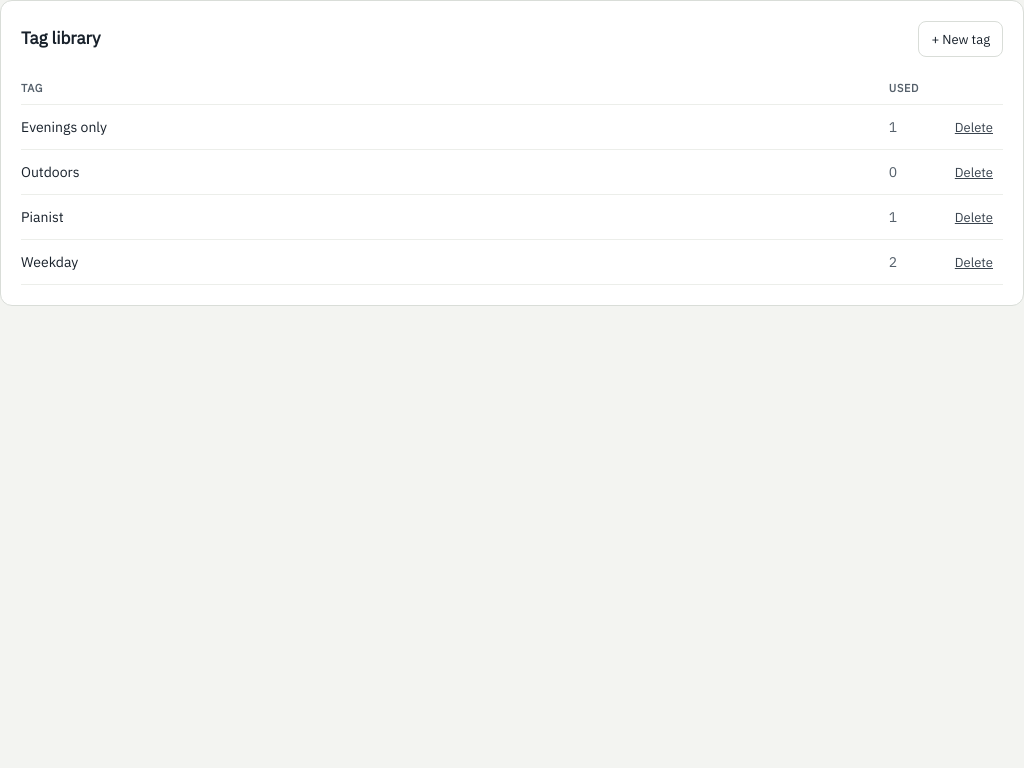
Test case: TagLibrary › uses singular copy for a tag used by one person and zero preferences
Click the button named "Delete Evenings only" at (974, 127), box [945, 109, 1003, 145]
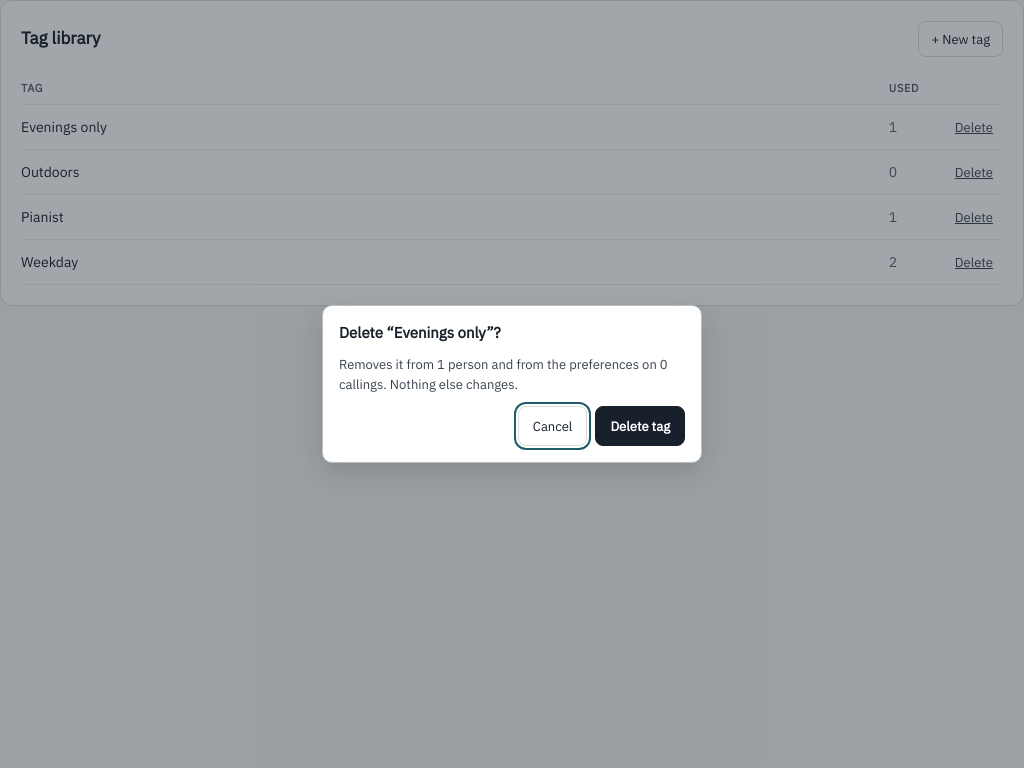
Expected: the dialog shows "Removes it from 1 person and from the preferences on 0 callings. Nothing else changes.", [339, 356, 668, 392]
